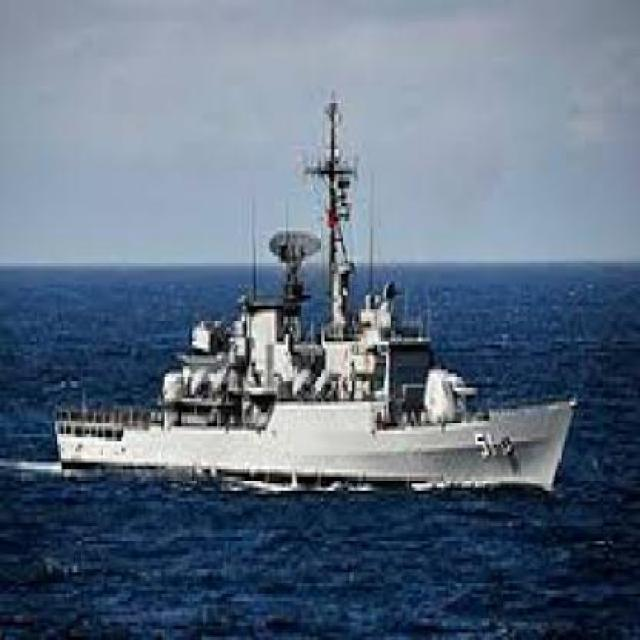warship2: (26, 175, 580, 524)
